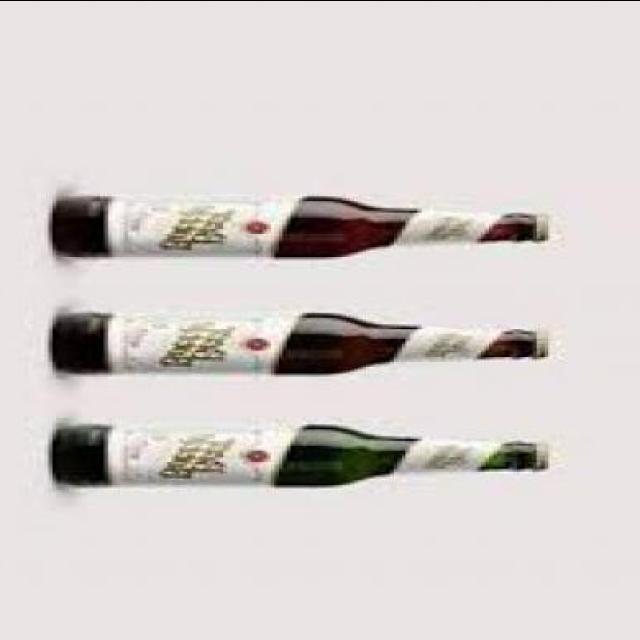kaca: (52, 195, 536, 261), (52, 312, 536, 378), (56, 426, 536, 489)
